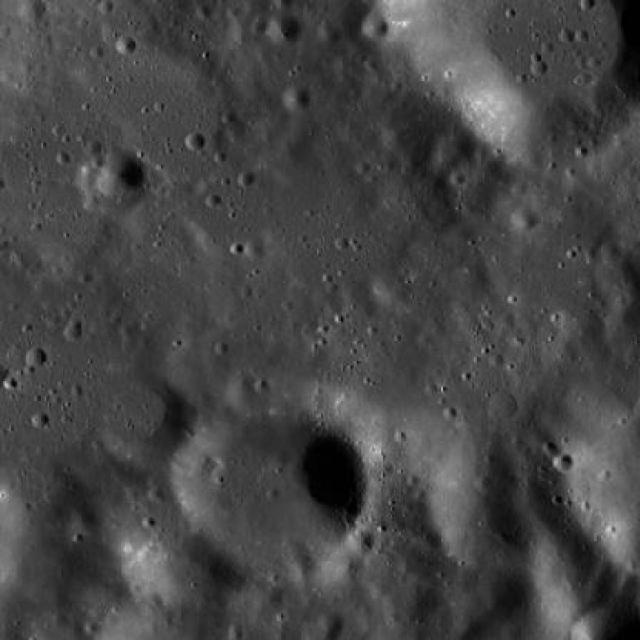crater: (178, 402, 362, 580), (314, 466, 442, 589), (138, 518, 242, 616), (96, 373, 192, 467), (0, 452, 85, 545), (442, 488, 530, 574), (532, 545, 620, 630), (528, 527, 598, 595), (74, 151, 143, 217), (445, 587, 500, 640), (386, 577, 436, 626), (479, 569, 528, 617), (432, 131, 480, 177), (98, 152, 146, 198), (595, 257, 640, 303), (226, 372, 268, 412), (456, 181, 498, 221), (326, 547, 364, 584), (373, 272, 412, 308), (66, 508, 102, 542), (286, 551, 317, 580), (268, 14, 298, 43), (488, 390, 518, 419), (510, 205, 539, 233), (347, 528, 375, 556), (282, 85, 310, 112), (250, 601, 278, 627), (361, 12, 388, 38), (318, 610, 344, 636), (20, 0, 46, 22), (379, 128, 404, 150), (225, 120, 248, 142), (596, 242, 619, 264), (264, 584, 286, 606), (366, 576, 388, 598), (245, 238, 268, 259), (184, 132, 207, 152), (319, 26, 341, 46), (116, 36, 138, 56), (26, 348, 46, 368), (82, 162, 101, 181), (551, 452, 571, 470), (513, 178, 532, 196), (78, 177, 97, 194), (238, 169, 256, 186), (66, 324, 82, 342), (531, 60, 547, 76), (32, 414, 49, 429), (270, 0, 292, 11), (206, 194, 222, 208)
